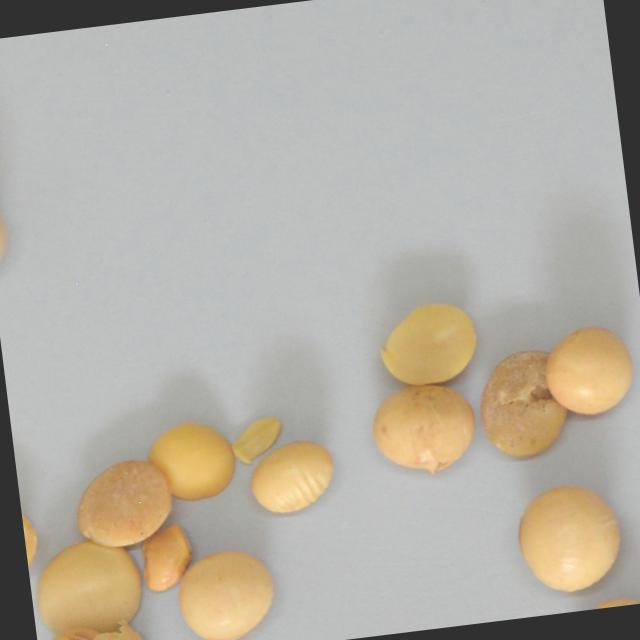cuerpos_extranos: (509, 477, 626, 596), (365, 374, 483, 485), (25, 533, 146, 640), (471, 341, 572, 463), (65, 453, 179, 555), (166, 541, 282, 640), (369, 294, 483, 391), (540, 318, 637, 420), (147, 411, 240, 503), (241, 435, 341, 519), (123, 515, 197, 595), (222, 409, 290, 464), (38, 615, 148, 640), (19, 489, 43, 587), (0, 182, 17, 284), (563, 590, 640, 612)
